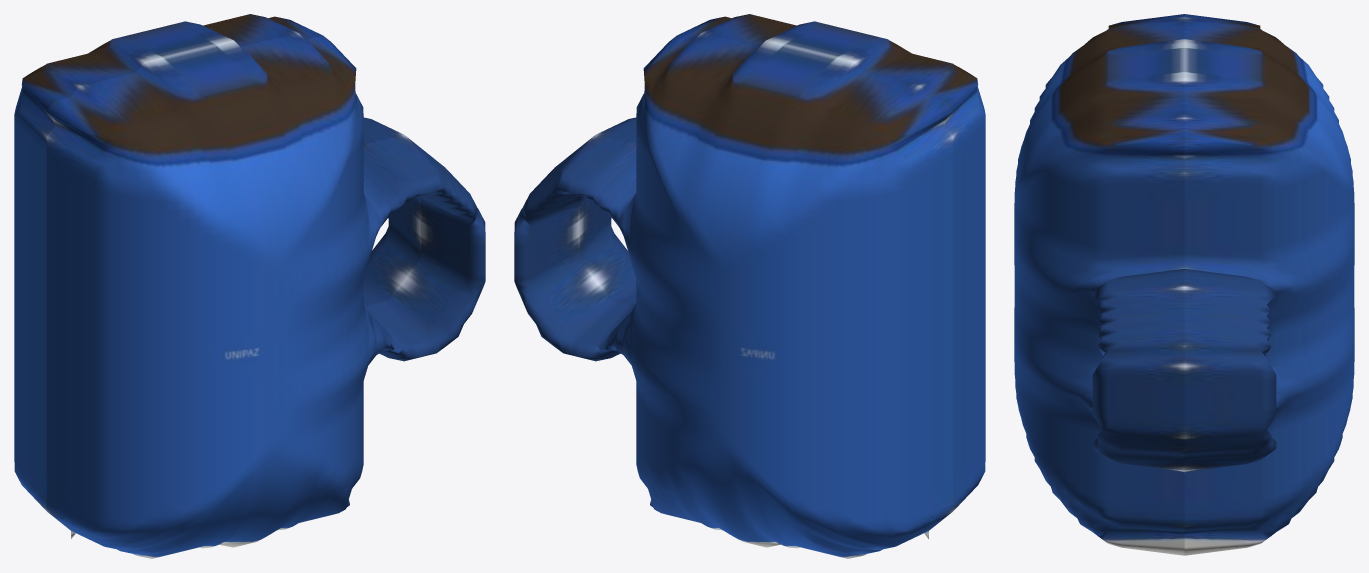
File: demo-taza.glb
3 renders of one model, left to right at view 1: azimuth 30°, elevation 25°; view 2: azimuth 150°, elevation 25°; view 3: azimuth 270°, elevation 25°, orthographic. The views are drawn at different scales.
Parts seen in each view (by area): view 1: modelo; view 2: modelo; view 3: modelo.
Part boxes in pixels (box(x1,y1,x2,y2)): modelo: box(14, 14, 485, 558); modelo: box(514, 14, 985, 558); modelo: box(1014, 14, 1354, 555).
Size of the model in its own units: 0.4167 by 0.4667 by 0.32.
1 material, 1 textured.
